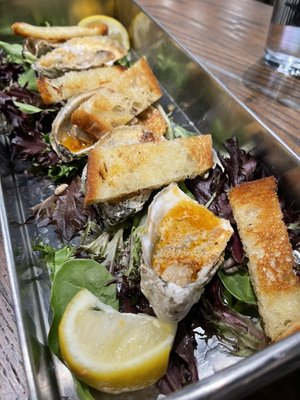pizza: (262, 0, 300, 79)
soup: (82, 122, 220, 230), (221, 175, 300, 344)
taco: (57, 289, 176, 395)
